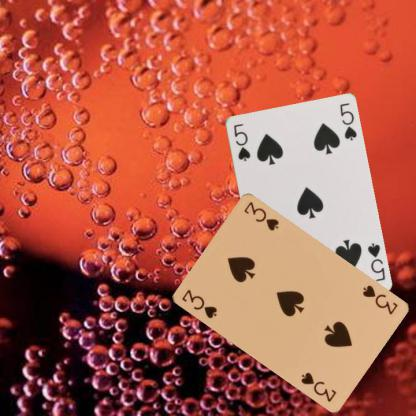3s: (359, 282, 399, 316), (178, 287, 219, 320)
5s: (365, 240, 386, 282), (231, 121, 252, 162)
